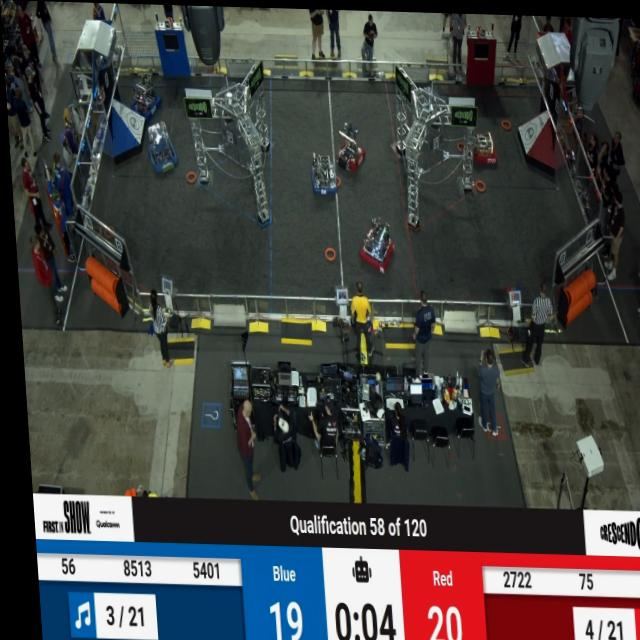Robot: (353, 208, 396, 275), (333, 116, 368, 174), (142, 118, 175, 177), (130, 67, 162, 121), (306, 149, 339, 199), (465, 126, 499, 168)
